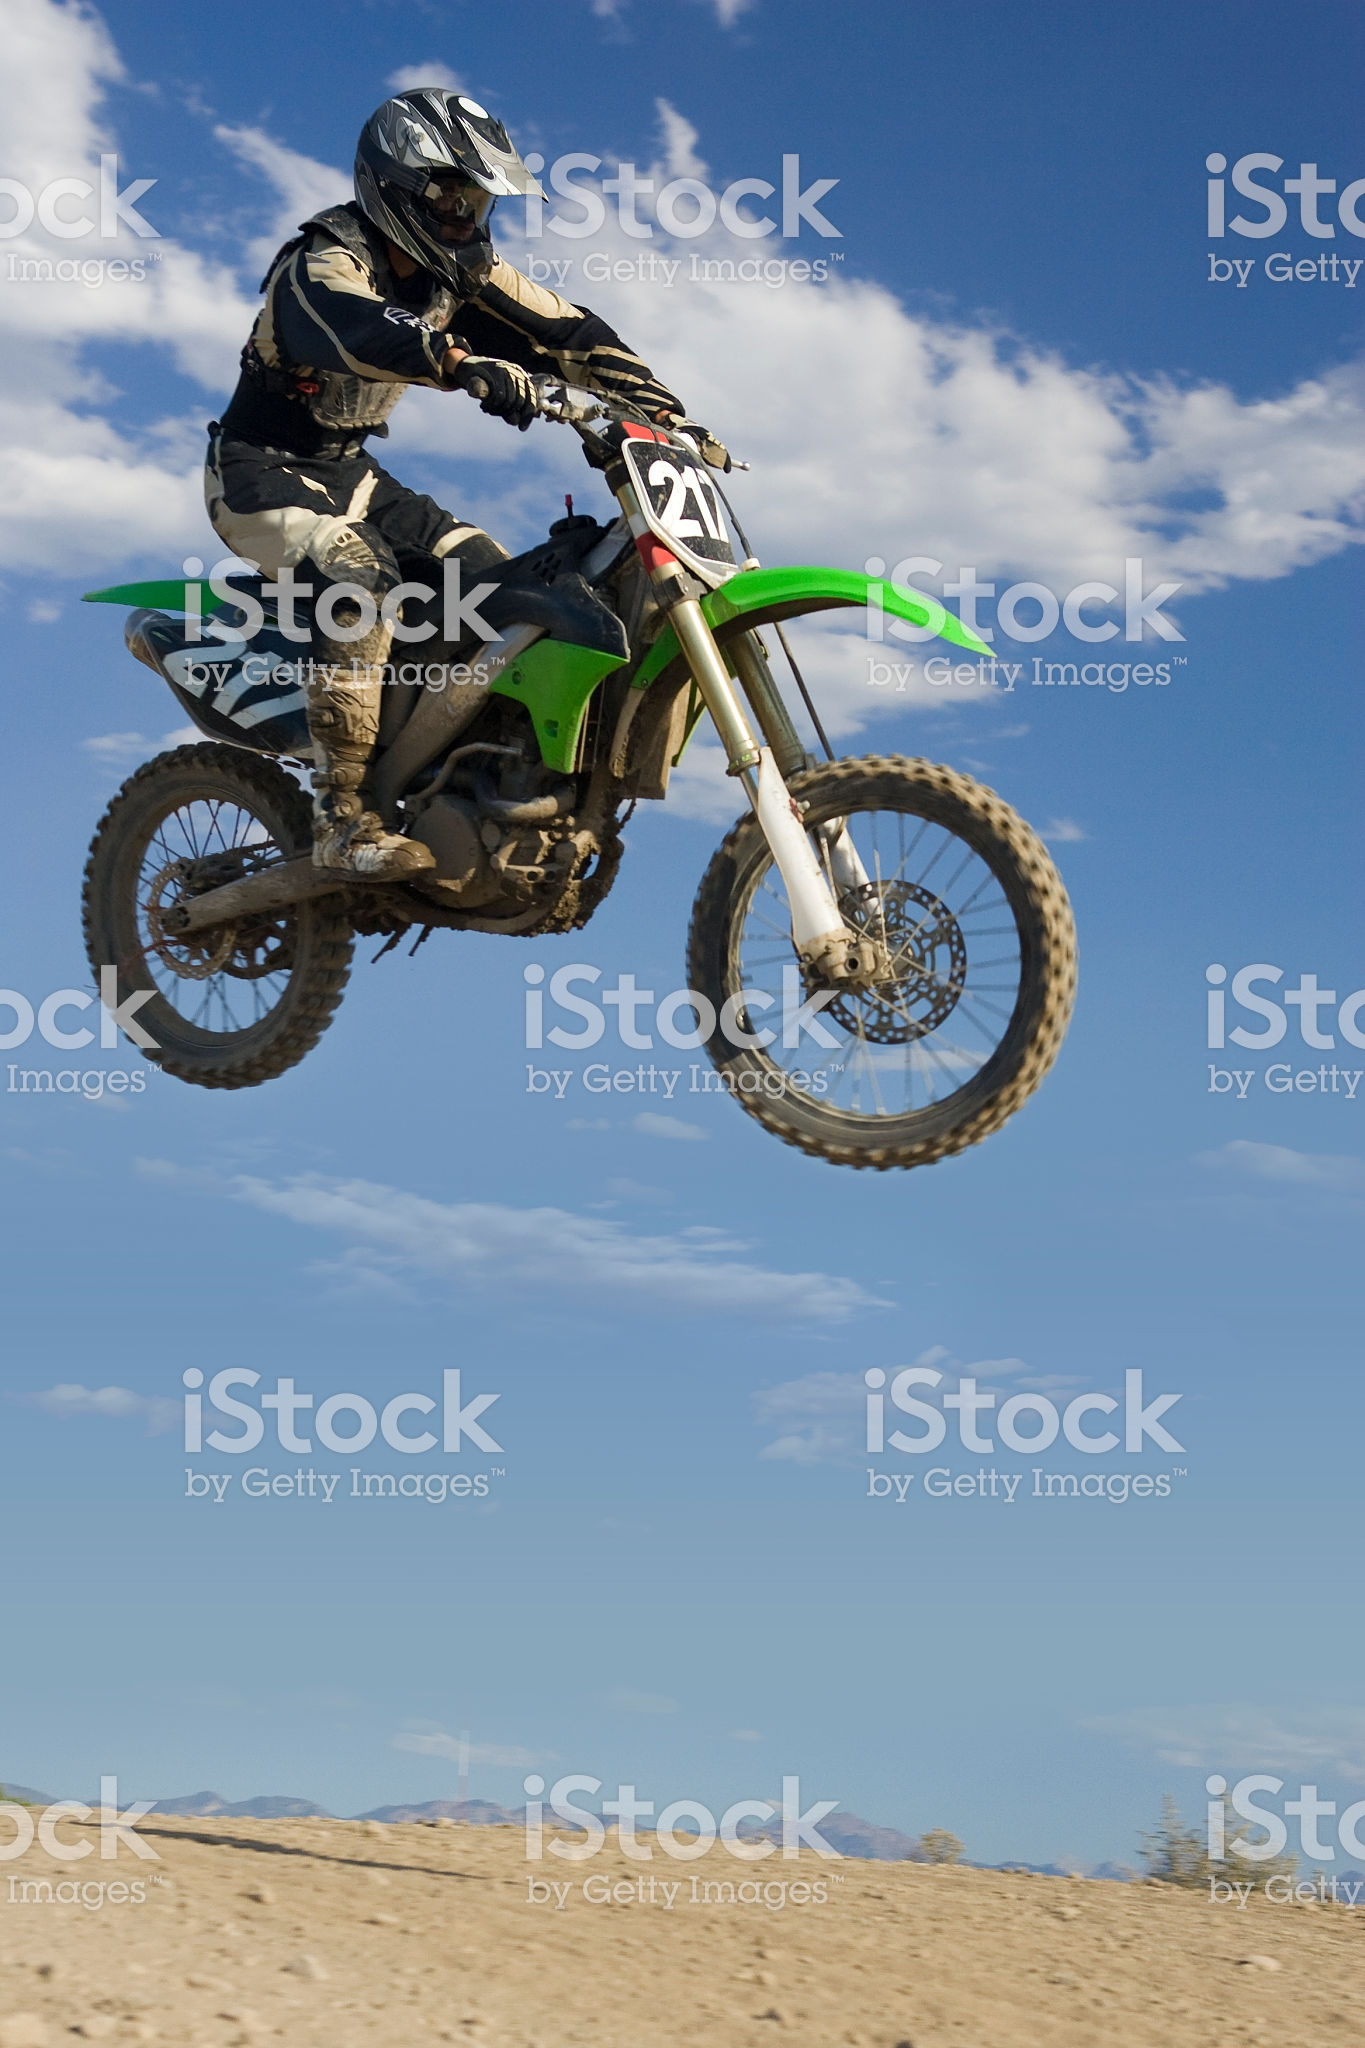helmet: (341, 72, 551, 279)
